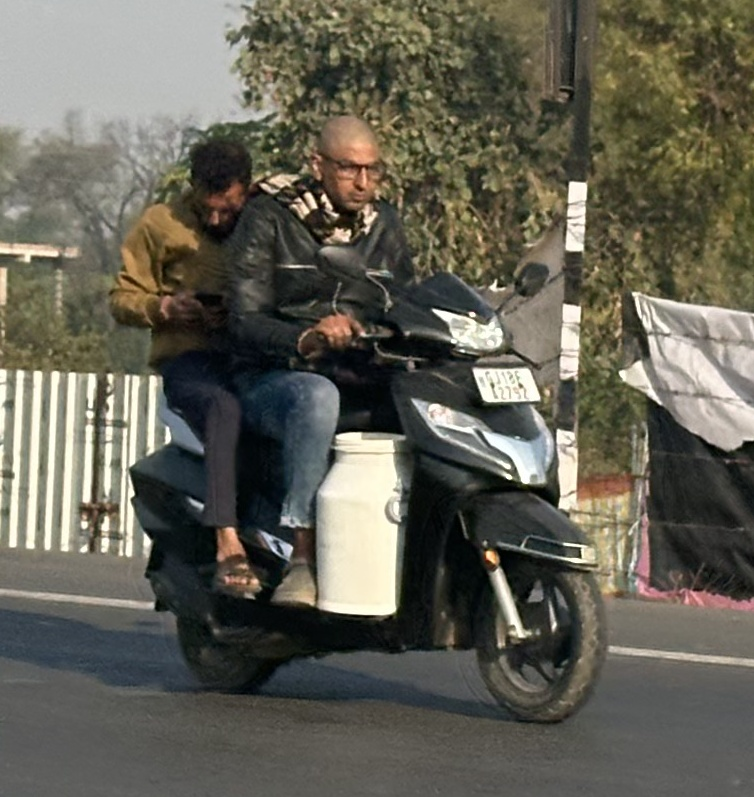BikeWithRider: (93, 101, 627, 733)
NoHelmet: (293, 106, 402, 215), (170, 129, 266, 236)
